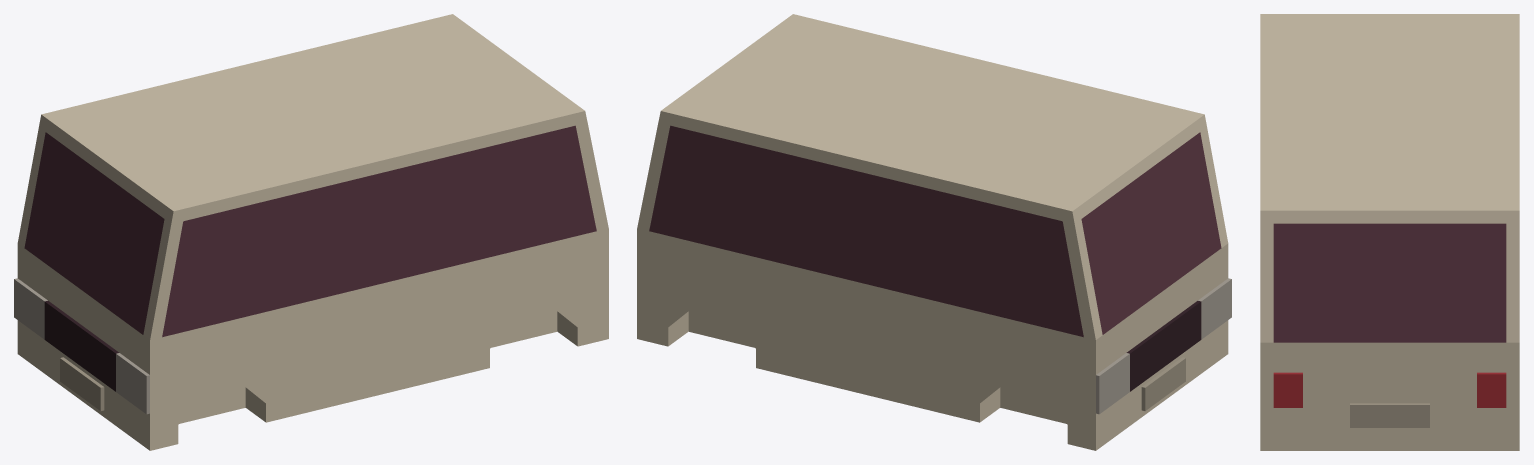
The model's file is MiniVan_White.fbx.
3 views of the same model, side by side, from view 1: azimuth 30°, elevation 25°; view 2: azimuth 150°, elevation 25°; view 3: azimuth 270°, elevation 25° (orthographic). The views are drawn at different scales.
Parts seen in each view (by area): view 1: MiniVan_White, MiniVan_Lights; view 2: MiniVan_White, MiniVan_Lights; view 3: MiniVan_White, MiniVan_Lights.
Boxes of the visible parts, x1,y1,x2,y2 form: MiniVan_White: (17,14,608,450); MiniVan_Lights: (14,278,149,414); MiniVan_White: (637,14,1228,450); MiniVan_Lights: (1096,278,1231,414); MiniVan_White: (1260,14,1519,450); MiniVan_Lights: (1273,372,1506,407).
Bounding box in the file's own units: 3.96 × 1.9 × 1.95.
